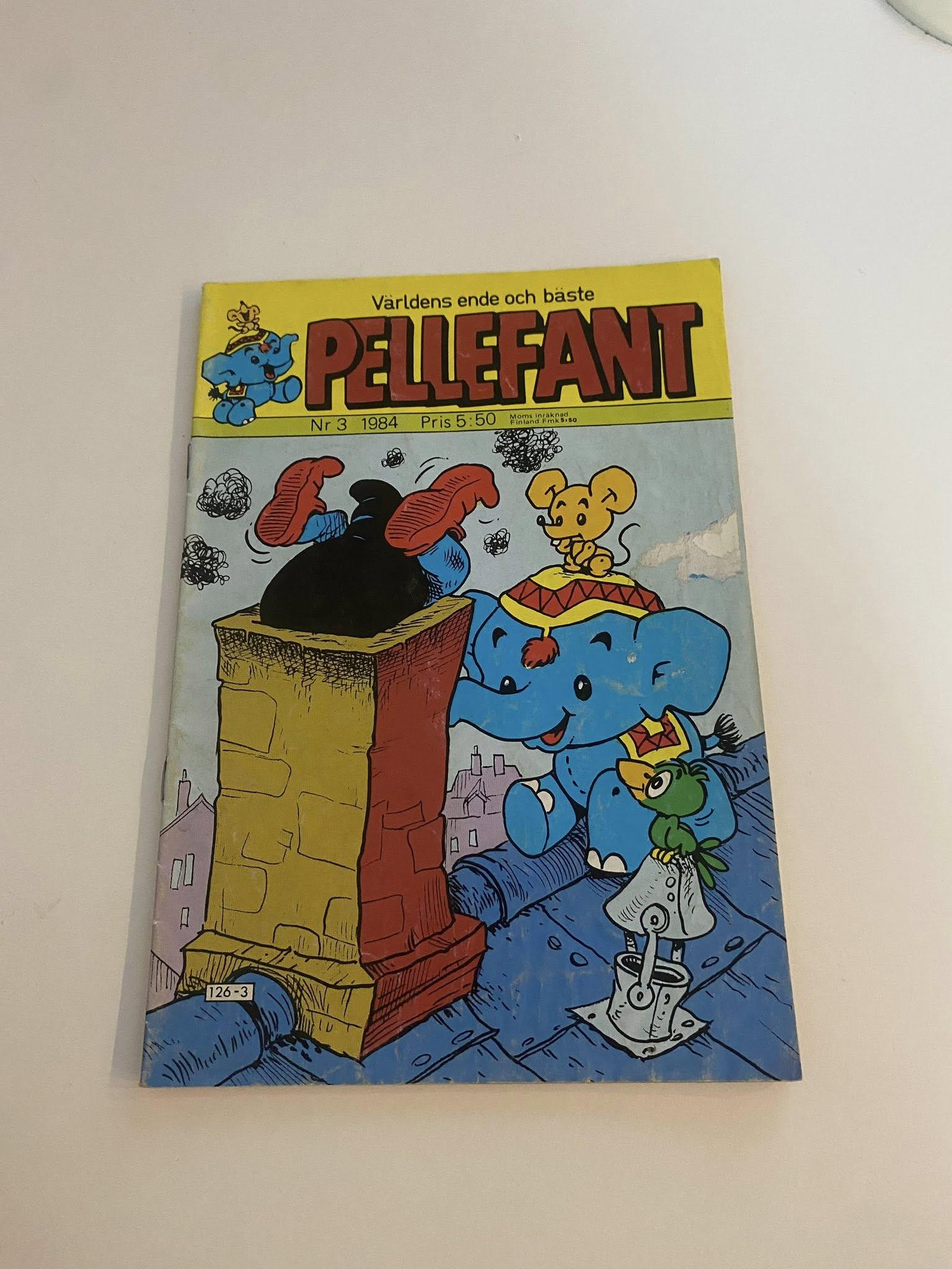comic: (105, 258, 800, 1109)
